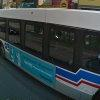buses: (0, 8, 98, 100)
